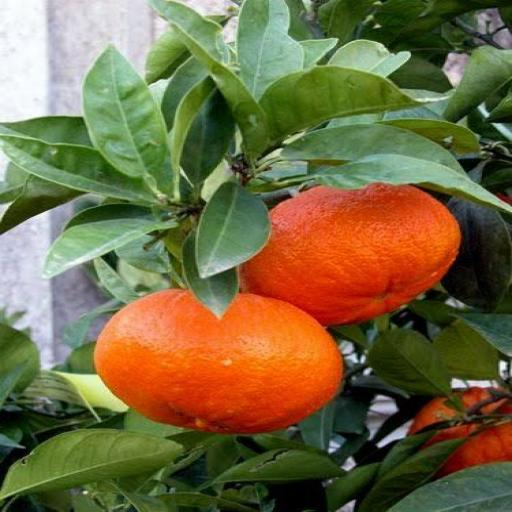orange: (95, 290, 342, 433), (241, 184, 460, 325)
